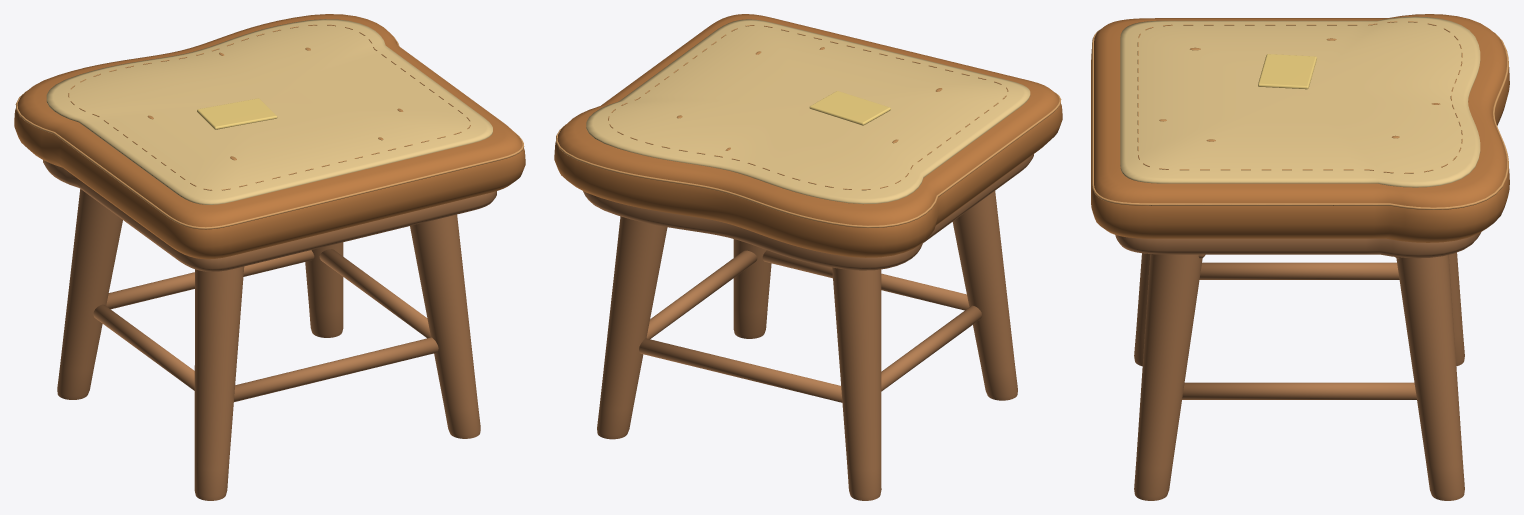
3 views of the same model, side by side, from view 1: azimuth 30°, elevation 25°; view 2: azimuth 150°, elevation 25°; view 3: azimuth 270°, elevation 25° (orthographic). The views are drawn at different scales.
Visible parts, largest first — view 1: Furniture_mesh; view 2: Furniture_mesh; view 3: Furniture_mesh.
Boxes of the visible parts, bbox=[...] form: Furniture_mesh: bbox=[14, 14, 525, 500]; Furniture_mesh: bbox=[554, 14, 1062, 500]; Furniture_mesh: bbox=[1091, 14, 1509, 500].
Bounding box in the file's own units: 0.5656 × 0.4645 × 0.5224.
